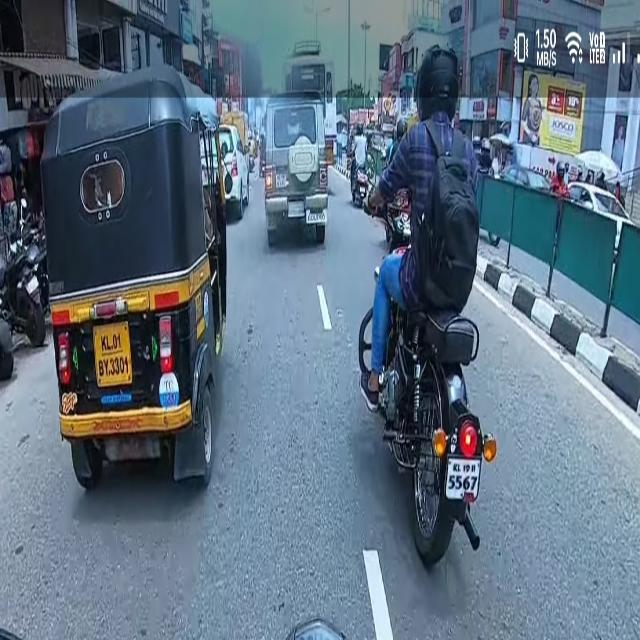Numberplate: (449, 453, 481, 512)
bike: (368, 42, 506, 579)
helmet: (420, 24, 460, 114)
